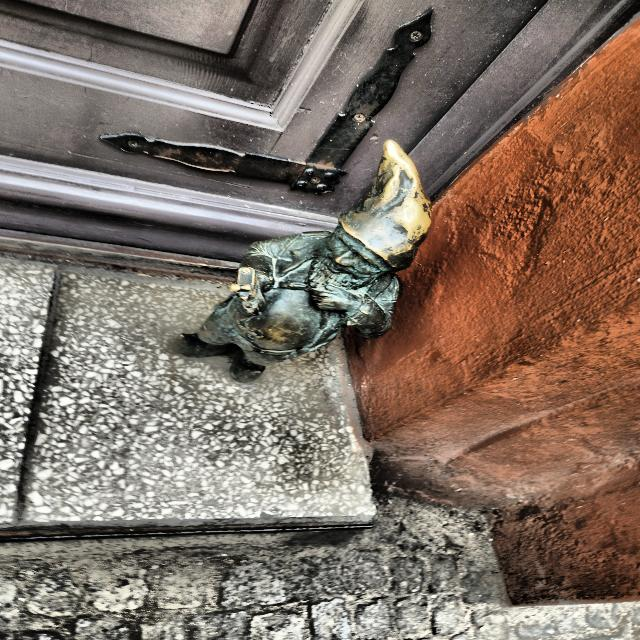TatuazystaKonstanty: (173, 141, 432, 382)
